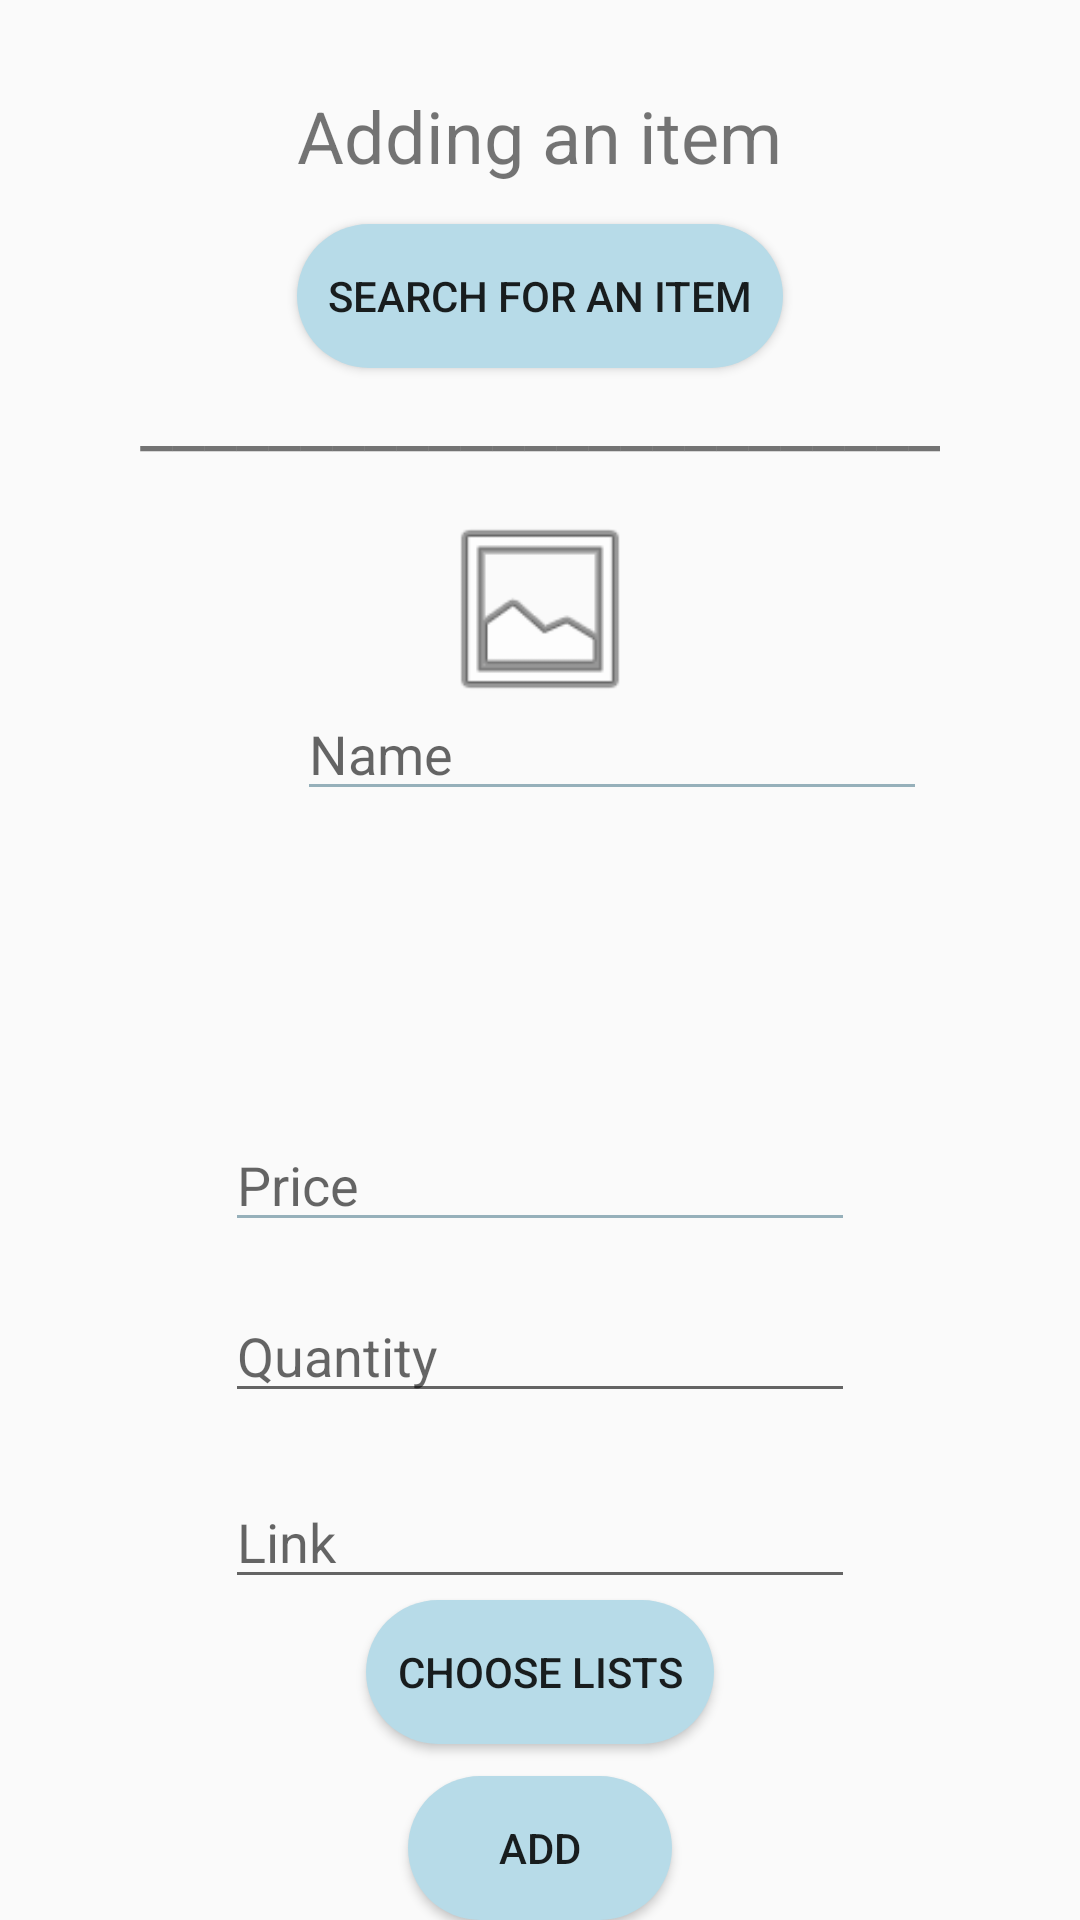

Icons on this 1080px×1920px Android screen, each with its box as box(x1, y1, x2, y2):
gallery: box(461, 530, 619, 688)
